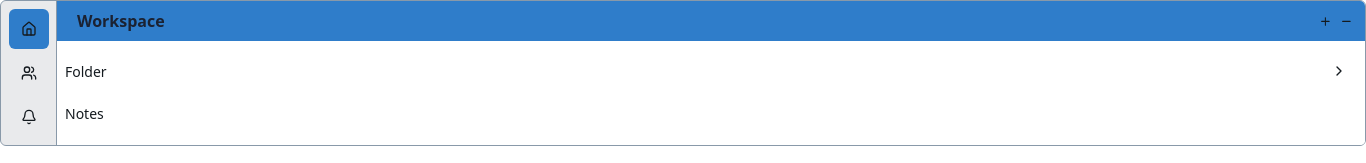
Test case: IconTreeMenu › shows tooltip content on hover
The image size is (1366, 163).
Hover over the button named "Alerts".
mouse_move(29, 117)  # box [9, 97, 49, 137]
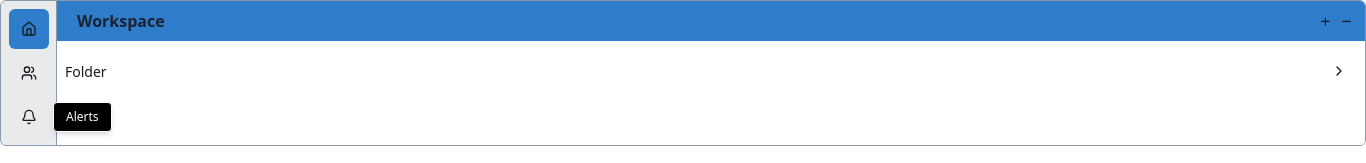
Result: the text "Alerts" is shown at [53, 102, 112, 132]
